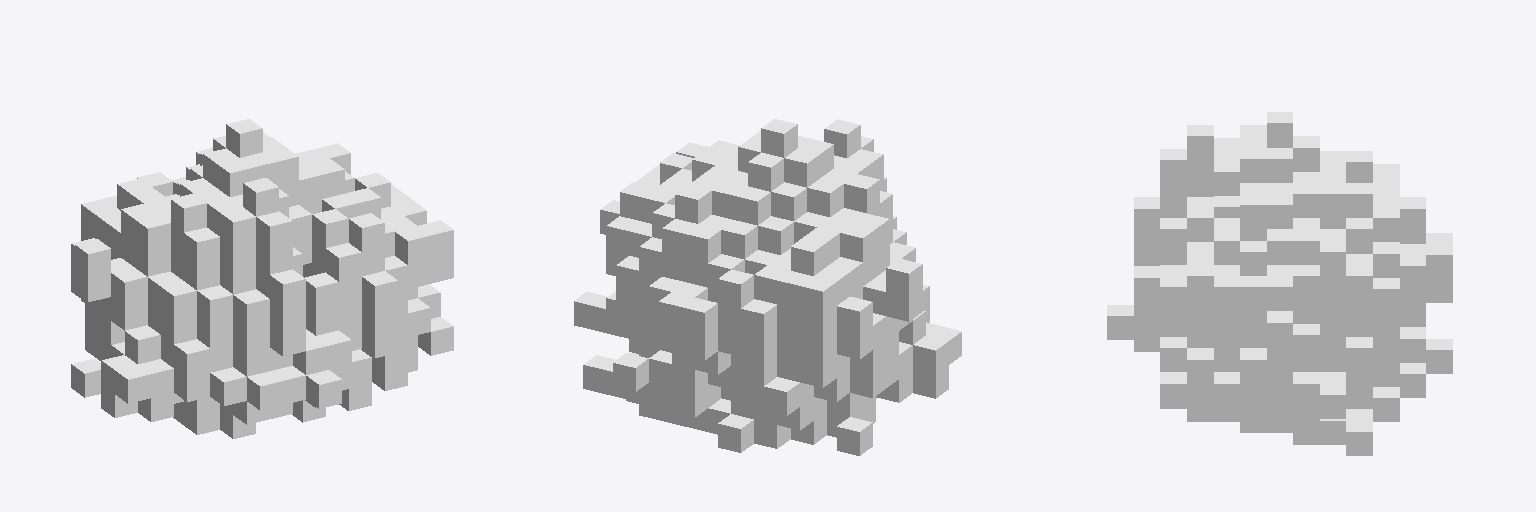
The model's file is Snow_Environment_Deco_Tile_02-4.obj.
3 renders of one model, left to right at view 1: azimuth 30°, elevation 25°; view 2: azimuth 150°, elevation 25°; view 3: azimuth 270°, elevation 25°, orthographic.
Parts seen in each view (by area): view 1: Snow_Environment_Deco_Tile_02-4; view 2: Snow_Environment_Deco_Tile_02-4; view 3: Snow_Environment_Deco_Tile_02-4.
Part boxes in pixels (bbox=[...]): Snow_Environment_Deco_Tile_02-4: bbox=[71, 119, 453, 438]; Snow_Environment_Deco_Tile_02-4: bbox=[574, 119, 961, 455]; Snow_Environment_Deco_Tile_02-4: bbox=[1107, 112, 1452, 455].
Size of the model in its own units: 14 by 11 by 13.